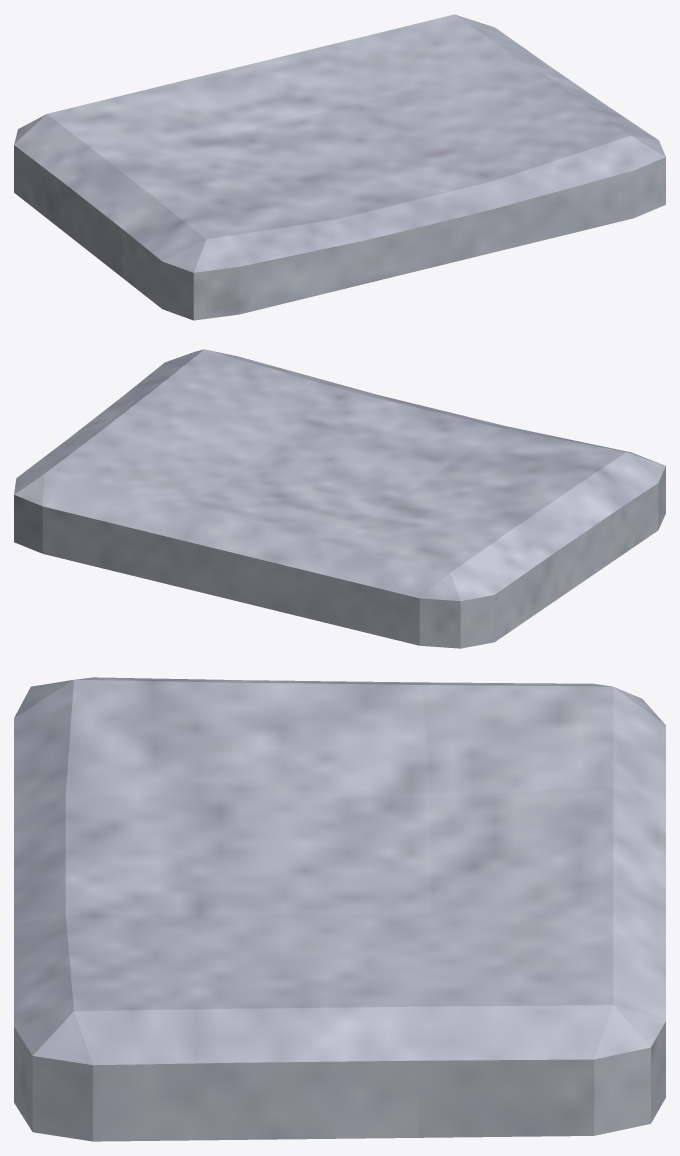
The model's file is MS_Pillow_1.fbx.
3 views of the same model, one above another, from view 1: azimuth 30°, elevation 25°; view 2: azimuth 150°, elevation 25°; view 3: azimuth 270°, elevation 25° (orthographic). The views are drawn at different scales.
Parts seen in each view (by area): view 1: MSH_Pillow; view 2: MSH_Pillow; view 3: MSH_Pillow.
Boxes of the visible parts, <box> form: MSH_Pillow: <box>14,14,665,320</box>; MSH_Pillow: <box>14,349,665,648</box>; MSH_Pillow: <box>14,677,665,1141</box>.
Bounding box in the file's own units: 34.32 × 4.29 × 24.39.
